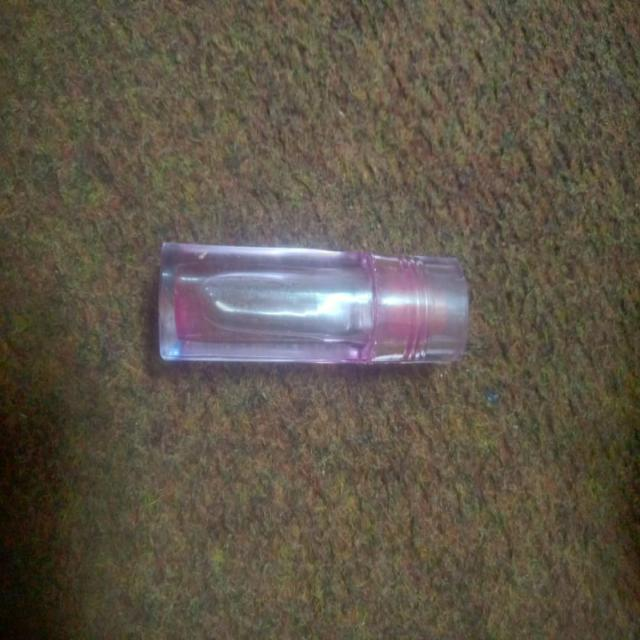lip gloss: (142, 215, 480, 416)
